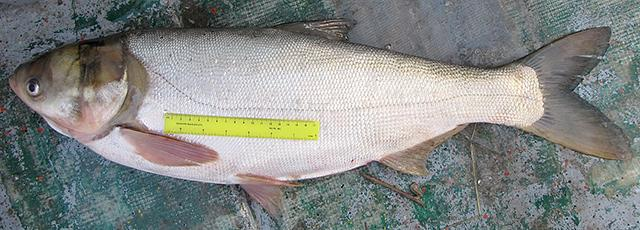Mulut: (1, 55, 39, 108)
Sirip Anal: (386, 118, 468, 182)
Sirip Dada: (114, 118, 226, 175)
Sirip Ekor: (513, 14, 635, 166)
Sirip Perut: (230, 162, 304, 228)
Sirip Punggung: (275, 4, 361, 48)
